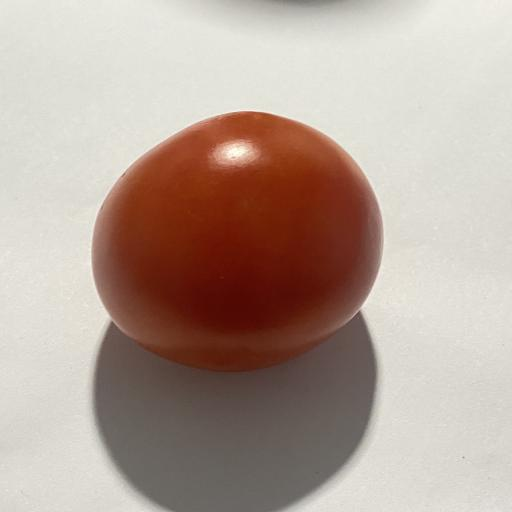ripe: (92, 112, 383, 371)
